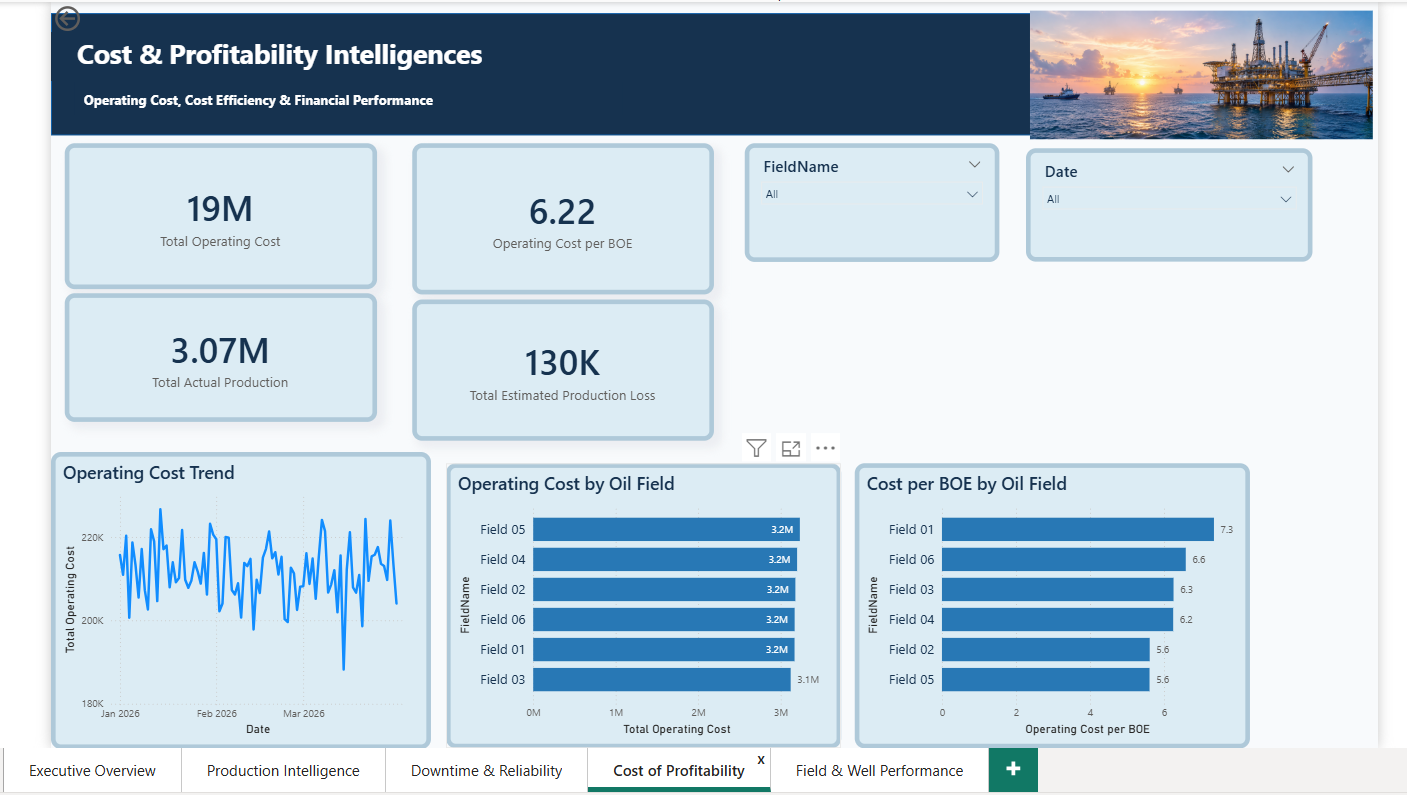

Layout of this report page (visuals, bound fields, positions):
{"tool":"powerbi","page":{"name":"Cost of Profitability","canvas":[1600,900],"ordinal":3},"visuals":[{"type":"shape","box":[0,14.3,1193.1,147.4],"z":0},{"type":"textbox","box":[0,36.8,1103.1,59.4],"z":1000},{"type":"image","box":[1176.8,0,423.6,176],"z":2000},{"type":"textbox","box":[29.3,97,661,40.3],"z":3000},{"type":"card","fields":{"Values":["OperatingCosts.Total Operating Cost"]},"box":[16.4,169.9,376.6,176],"z":4000},{"type":"card","fields":{"Values":["OperatingCosts.Operating Cost per BOE"]},"box":[435.5,170.3,363.8,182.8],"z":5000},{"type":"card","fields":{"Values":["DowntimeEvents.Total Estimated Production Loss"]},"box":[435.5,358.4,363.8,170.3],"z":6000},{"type":"card","fields":{"Values":["DailyProduction.Total Actual Production"]},"box":[16.4,352,376.6,155.5],"z":7000},{"type":"lineChart","title":"Operating Cost Trend","fields":{"Category":["OperatingCosts.Date"],"Y":["OperatingCosts.Total Operating Cost"]},"box":[0,542.3,458.4,358.1],"z":8000},{"type":"clusteredBarChart","title":"Operating Cost by Oil Field","fields":{"Category":["Fields.FieldName"],"Y":["OperatingCosts.Total Operating Cost"]},"box":[476.9,556.7,476.9,343.8],"z":9000},{"type":"clusteredBarChart","title":"Cost per BOE by Oil Field","fields":{"Category":["Fields.FieldName"],"Y":["OperatingCosts.Operating Cost per BOE"]},"box":[970.1,556.7,476.9,343.8],"z":10000},{"type":"slicer","fields":{"Values":["Fields.FieldName"]},"box":[837,169.9,307,143.3],"z":11000},{"type":"slicer","fields":{"Values":["DimDate.Date"]},"box":[1176.8,176,345.9,137.1],"z":12000},{"type":"actionButton","box":[0,0,100,40],"z":12001}]}

Visuals, with their boxes on the page's 1600x900 design canvas (x1, y1, x2, y2). These are canvas units, not pixel positions in the 1407x795 screenshot, which may show the page scaled, cropped or inside an application window:
shape: bbox=[0, 14, 1193, 162]
textbox: bbox=[0, 37, 1103, 96]
image: bbox=[1177, 0, 1600, 176]
textbox: bbox=[29, 97, 690, 137]
card - OperatingCosts.Total Operating Cost: bbox=[16, 170, 393, 346]
card - OperatingCosts.Operating Cost per BOE: bbox=[436, 170, 799, 353]
card - DowntimeEvents.Total Estimated Production Loss: bbox=[436, 358, 799, 529]
card - DailyProduction.Total Actual Production: bbox=[16, 352, 393, 508]
"Operating Cost Trend" lineChart: bbox=[0, 542, 458, 900]
"Operating Cost by Oil Field" clusteredBarChart: bbox=[477, 557, 954, 900]
"Cost per BOE by Oil Field" clusteredBarChart: bbox=[970, 557, 1447, 900]
slicer - Fields.FieldName: bbox=[837, 170, 1144, 313]
slicer - DimDate.Date: bbox=[1177, 176, 1523, 313]
actionButton: bbox=[0, 0, 100, 40]
